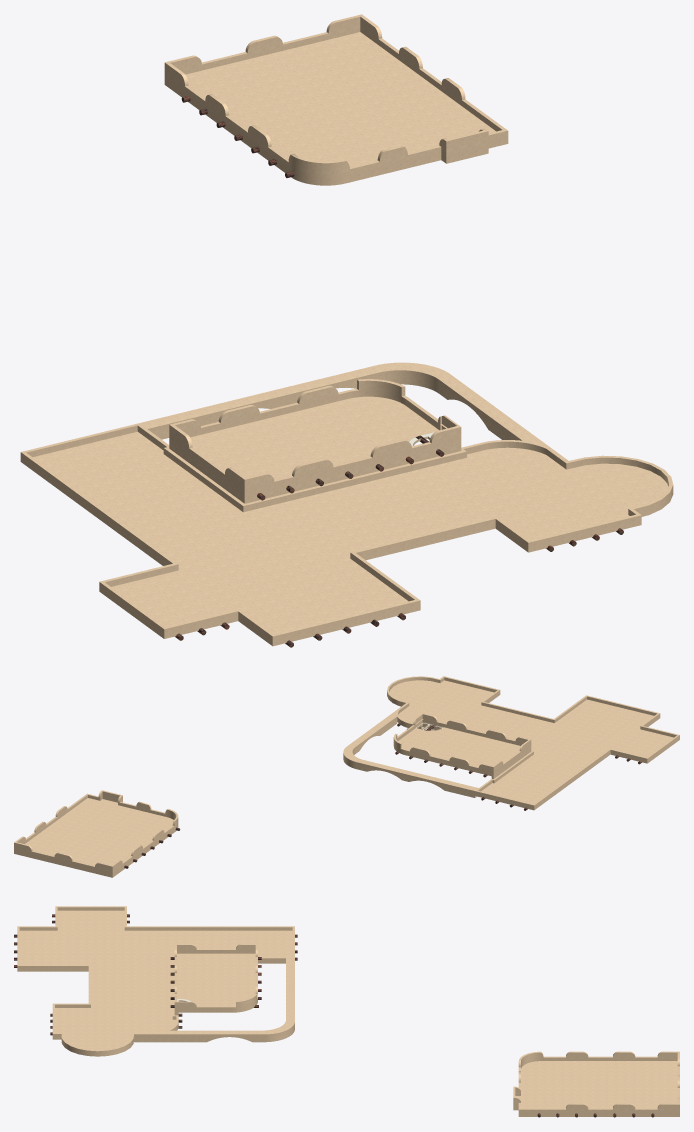
File: Arch_Bldg_AdobeHouseComplex_EXPORT_ROOF.obj
The picture shows the model from 3 angles, top to bottom: view 1: azimuth 30°, elevation 25°; view 2: azimuth 150°, elevation 25°; view 3: azimuth 270°, elevation 25°; orthographic projection. The views are drawn at different scales.
Visible parts, largest first — view 1: Arch_Bldg_AdobeHouseComplex_EXPORT-COM-Roof-Main-Guest-House-472; view 2: Arch_Bldg_AdobeHouseComplex_EXPORT-COM-Roof-Main-Guest-House-472; view 3: Arch_Bldg_AdobeHouseComplex_EXPORT-COM-Roof-Main-Guest-House-472.
Part boxes in pixels (x1=…): Arch_Bldg_AdobeHouseComplex_EXPORT-COM-Roof-Main-Guest-House-472: x1=20, y1=14, x2=673, y2=647; Arch_Bldg_AdobeHouseComplex_EXPORT-COM-Roof-Main-Guest-House-472: x1=14, y1=676, x2=679, y2=877; Arch_Bldg_AdobeHouseComplex_EXPORT-COM-Roof-Main-Guest-House-472: x1=14, y1=906, x2=679, y2=1117.
Bounding box in the file's own units: 33.34 × 1.57 × 45.34.
